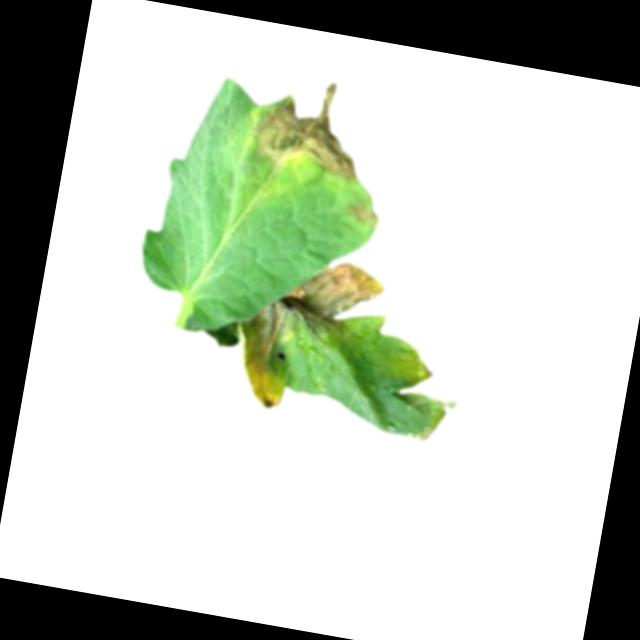Late_blight: (205, 239, 387, 425), (244, 65, 372, 183), (345, 198, 377, 225)
